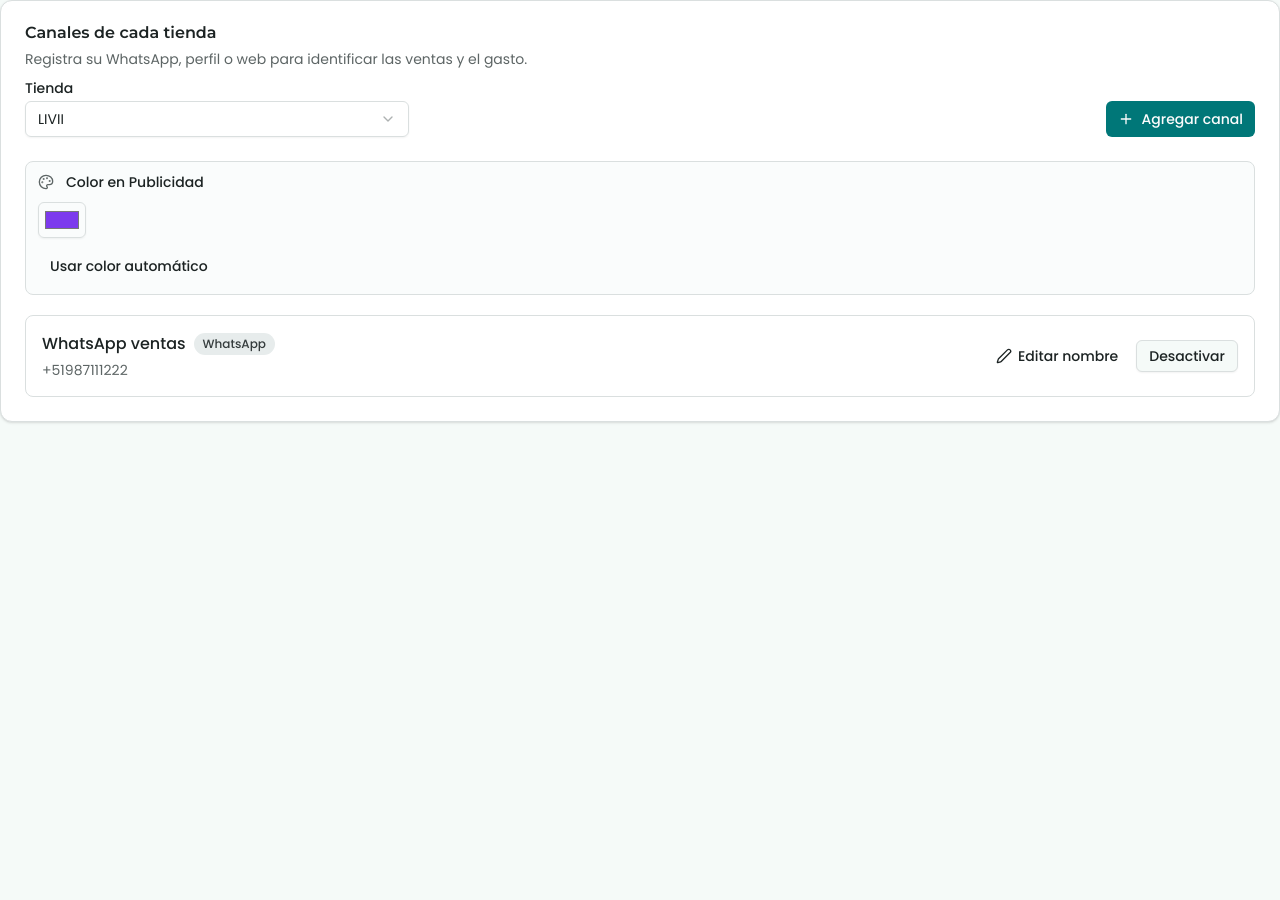
it: Canales comerciales por tienda › validates the country code and creates only in the selected store
The image size is (1280, 900).
Expected: the text "WhatsApp ventas" is shown, [42, 332, 186, 356]
Step 1. Click the button "Agregar canal" → point(1180, 119), box [1106, 101, 1255, 137]
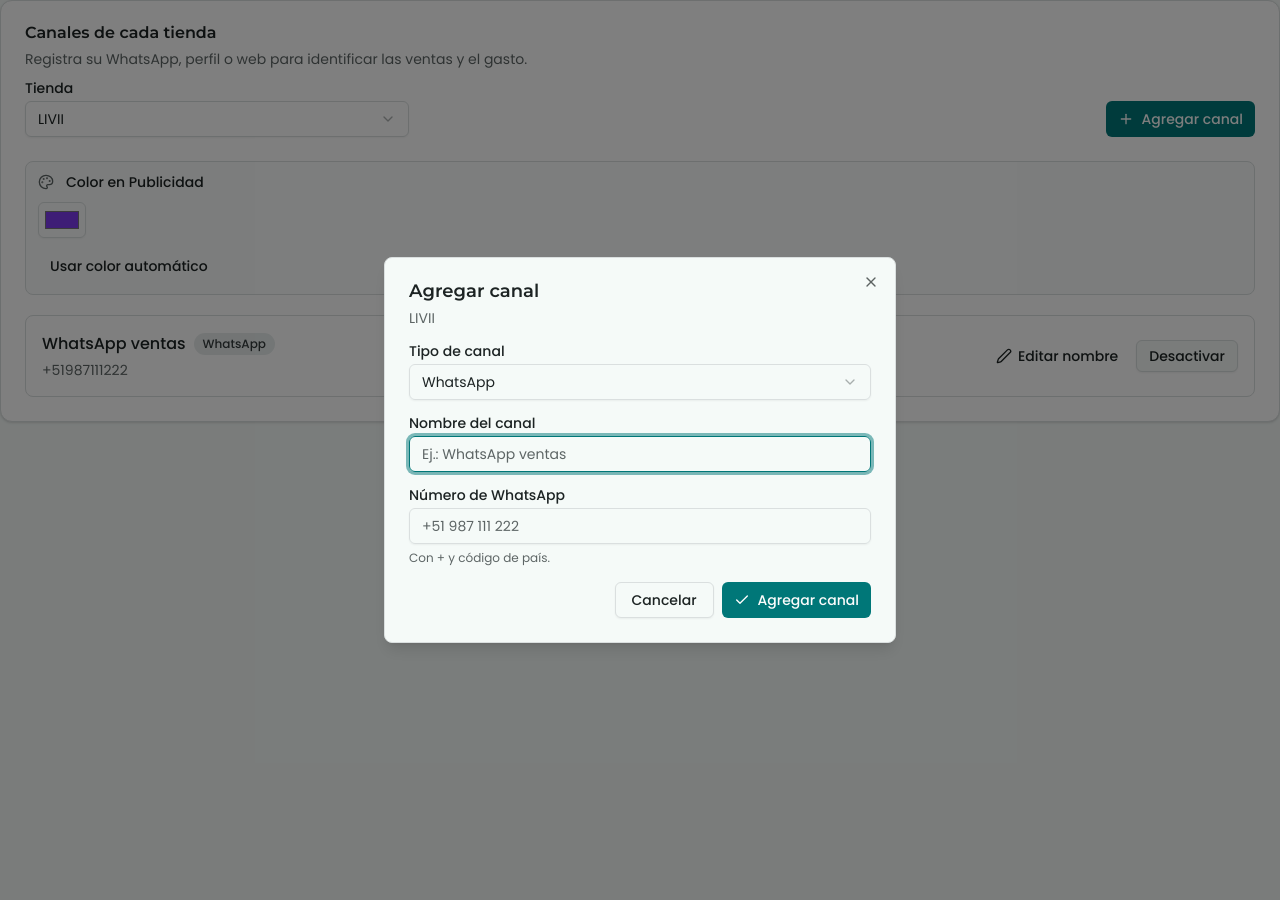
Step 2. Type "Ventas nuevas" into the field labelled "Nombre del canal" → point(640, 454), box [409, 436, 871, 472]
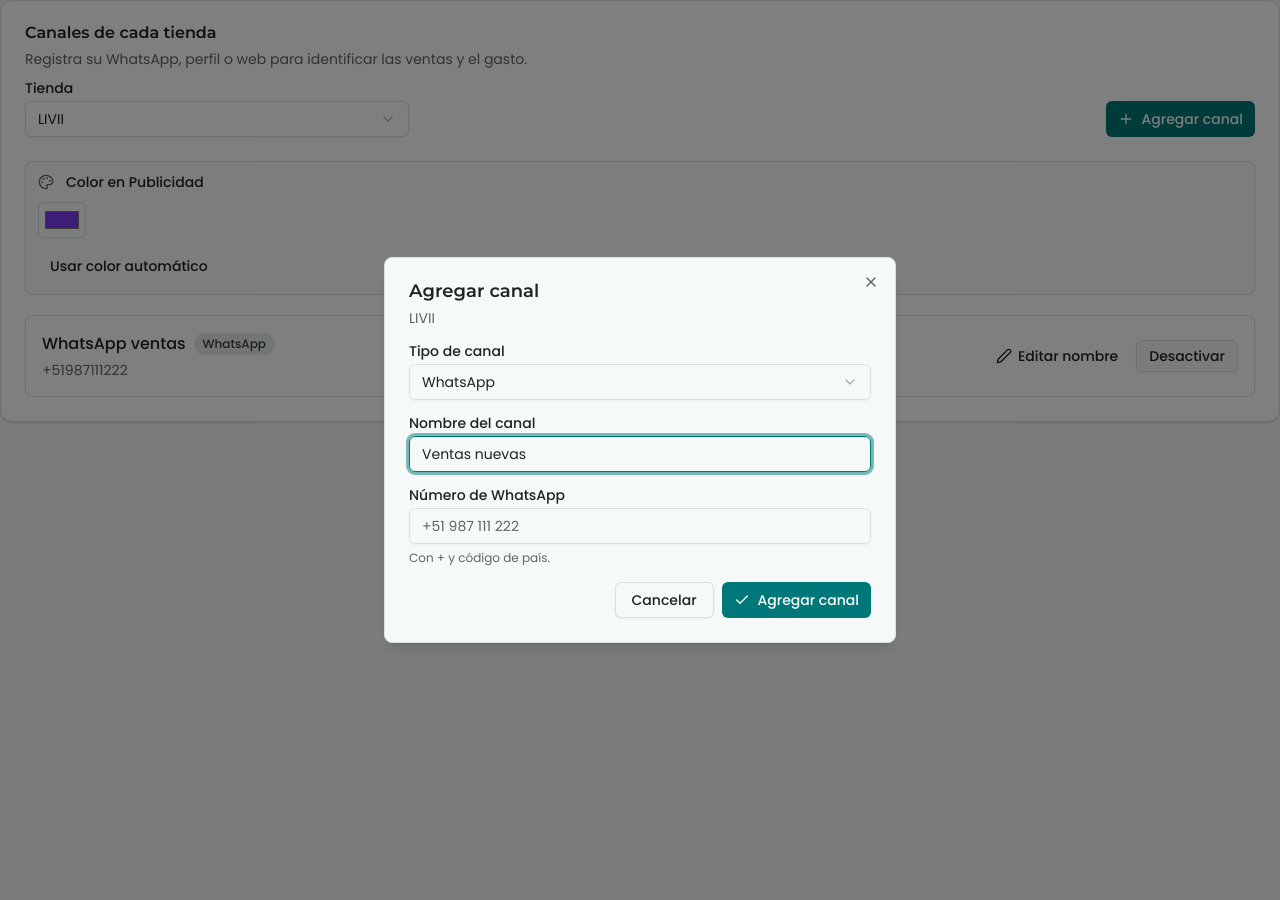
Step 3. Type "987111222" into the field labelled "Número de WhatsApp" → point(640, 526), box [409, 508, 871, 544]
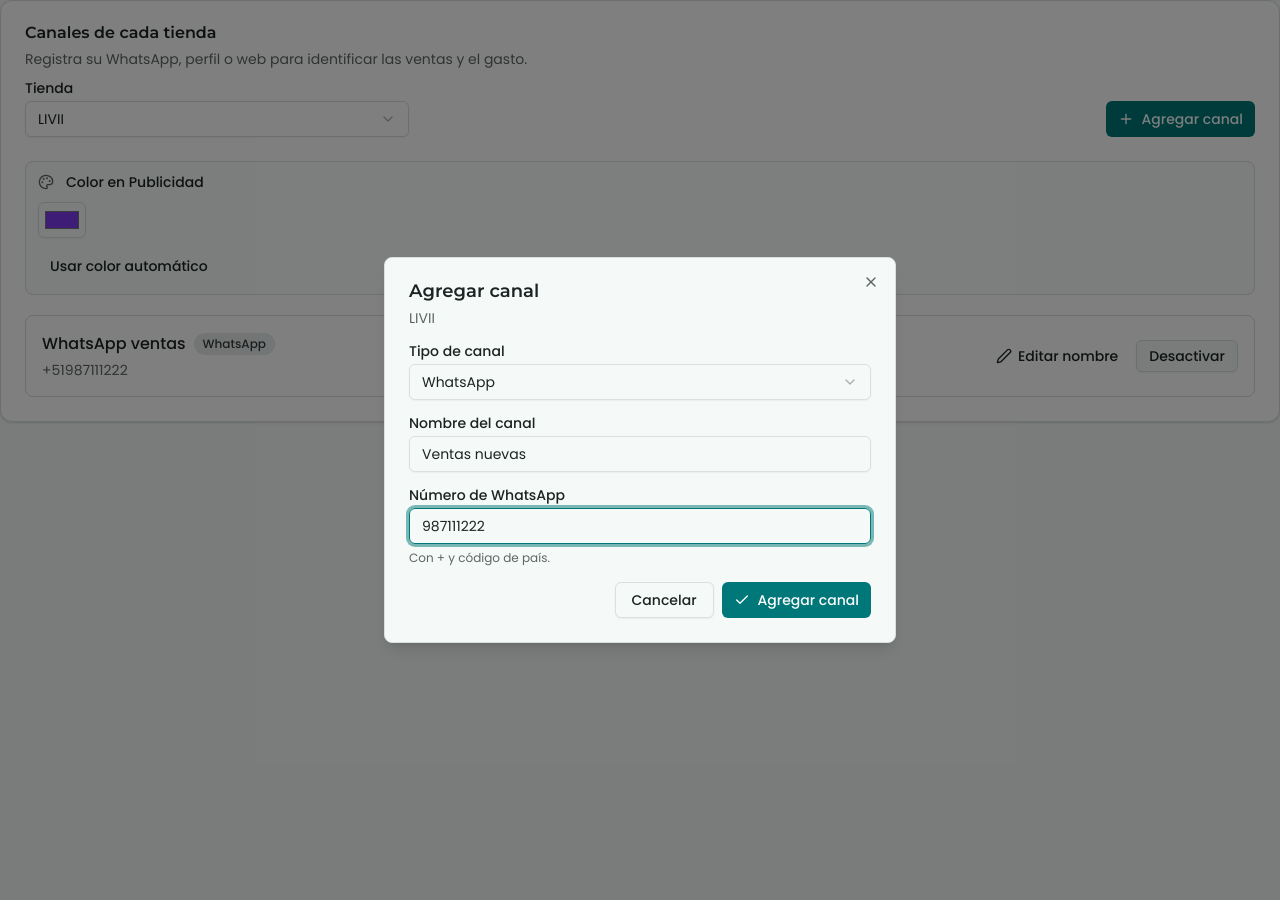
Step 4. Click the button "Agregar canal" → point(796, 600), box [722, 582, 871, 618]
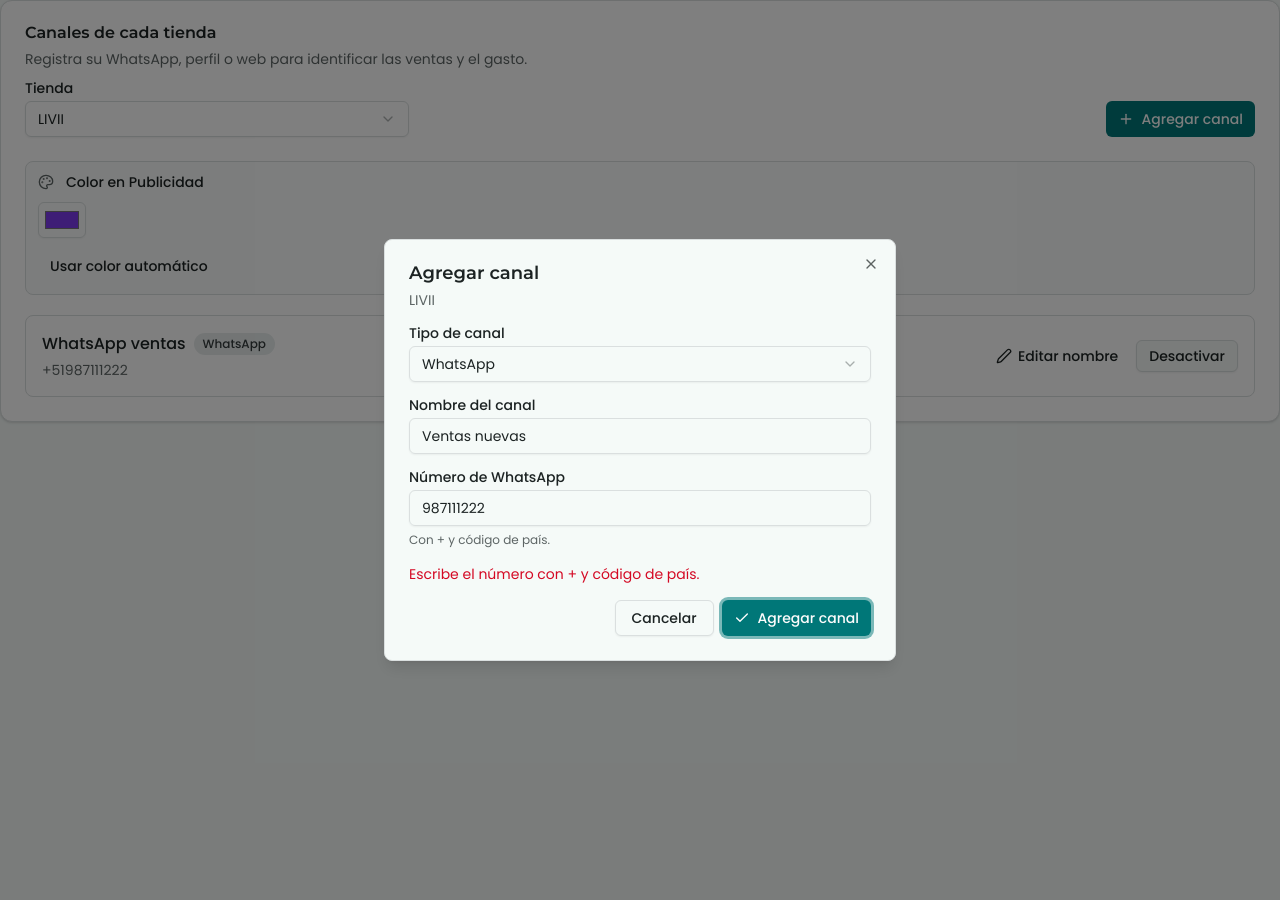
Expected: the message shows "+ y código de país", [409, 564, 700, 584]
Step 5. Replace the text in the field labelled "Número de WhatsApp" with "+51 987 111 222" → point(640, 508), box [409, 490, 871, 526]
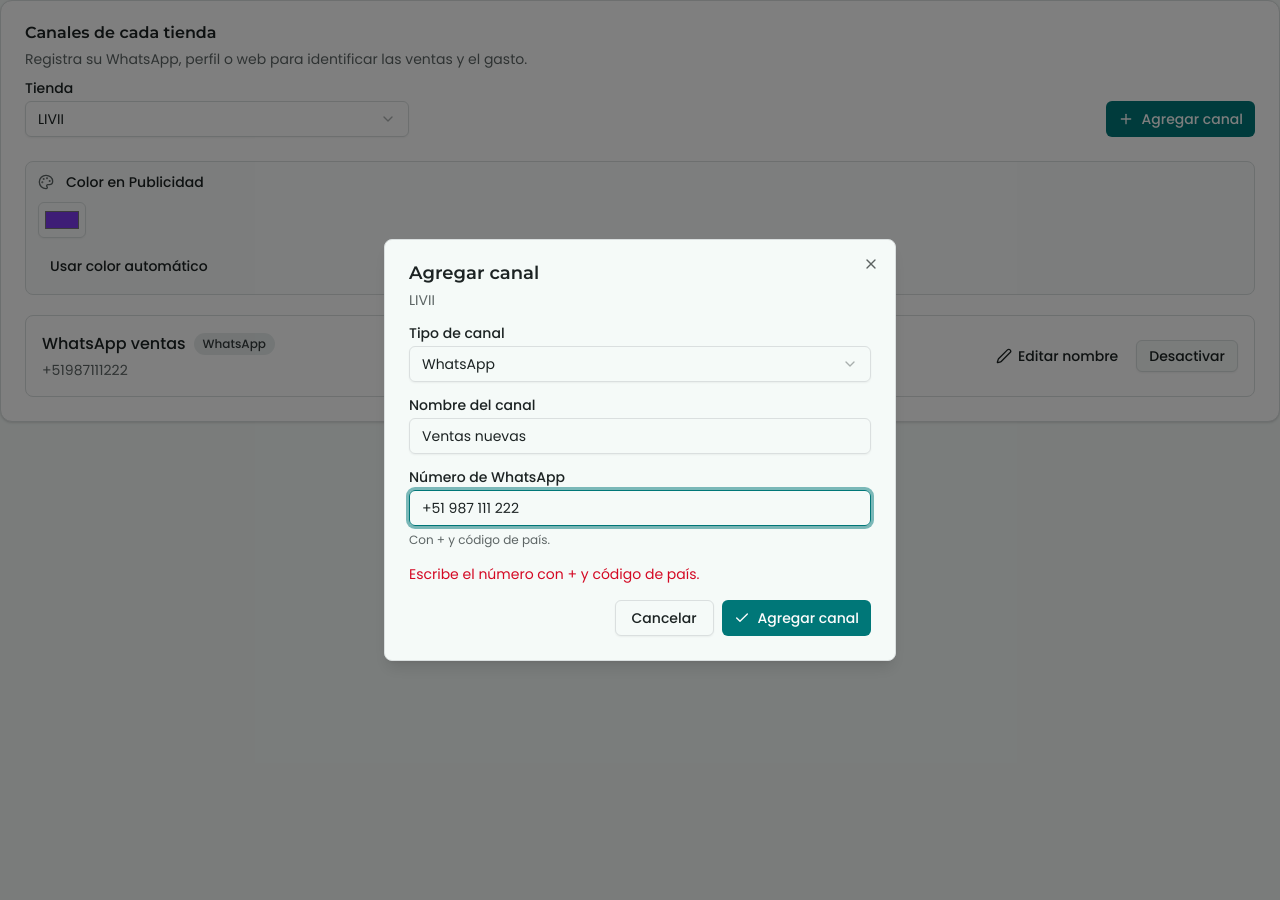
Step 6. Click the button "Agregar canal" → point(796, 618), box [722, 600, 871, 636]
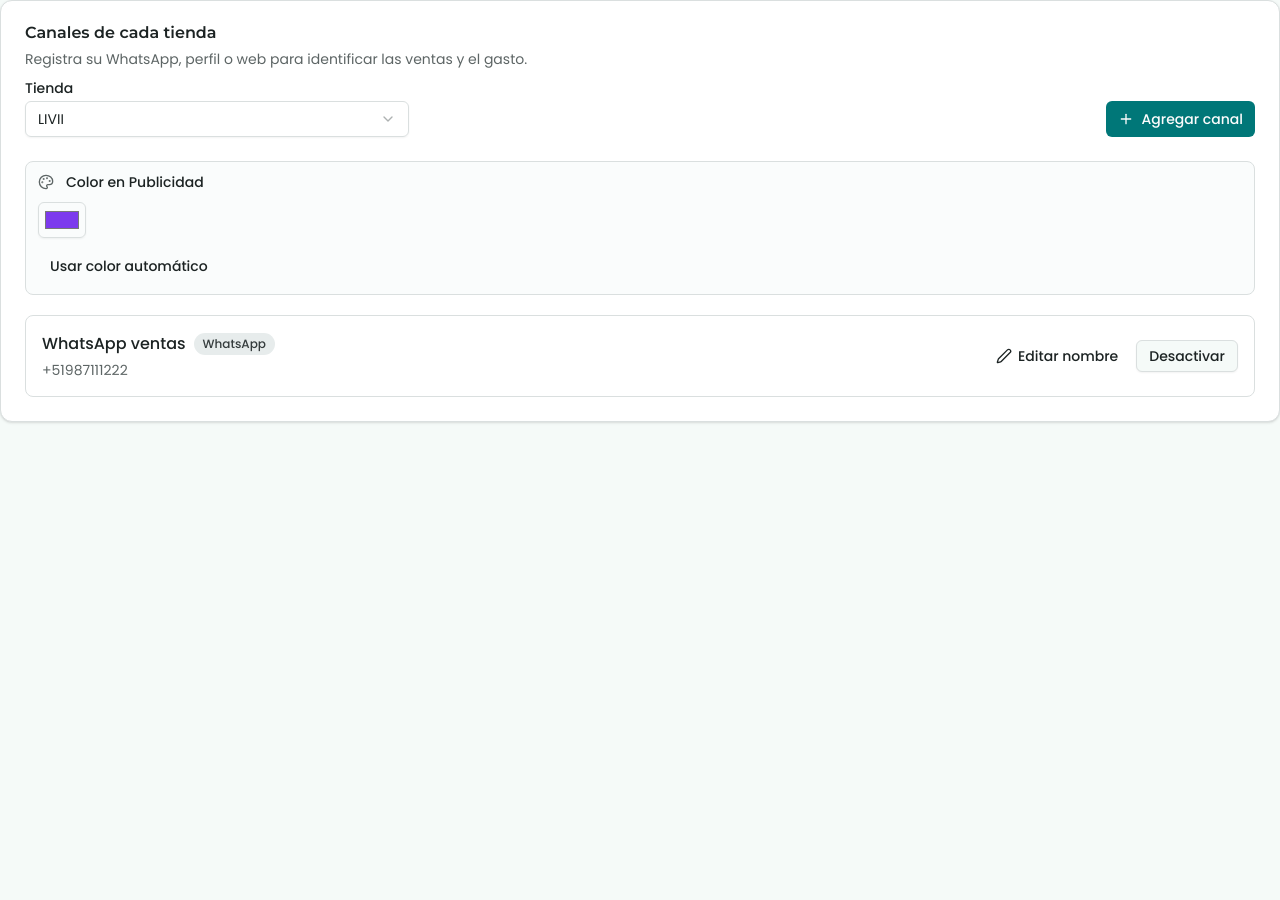
Expected: the dialog is gone
